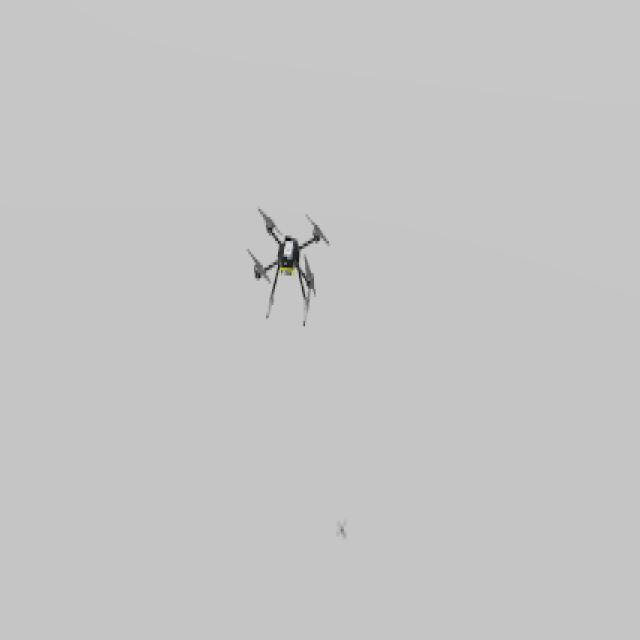drone: (246, 202, 332, 325)
